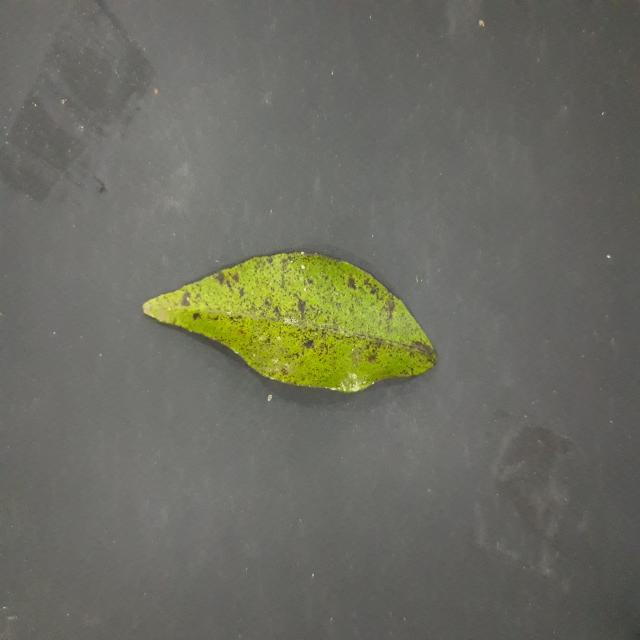greasy_spot: (144, 253, 437, 392)
